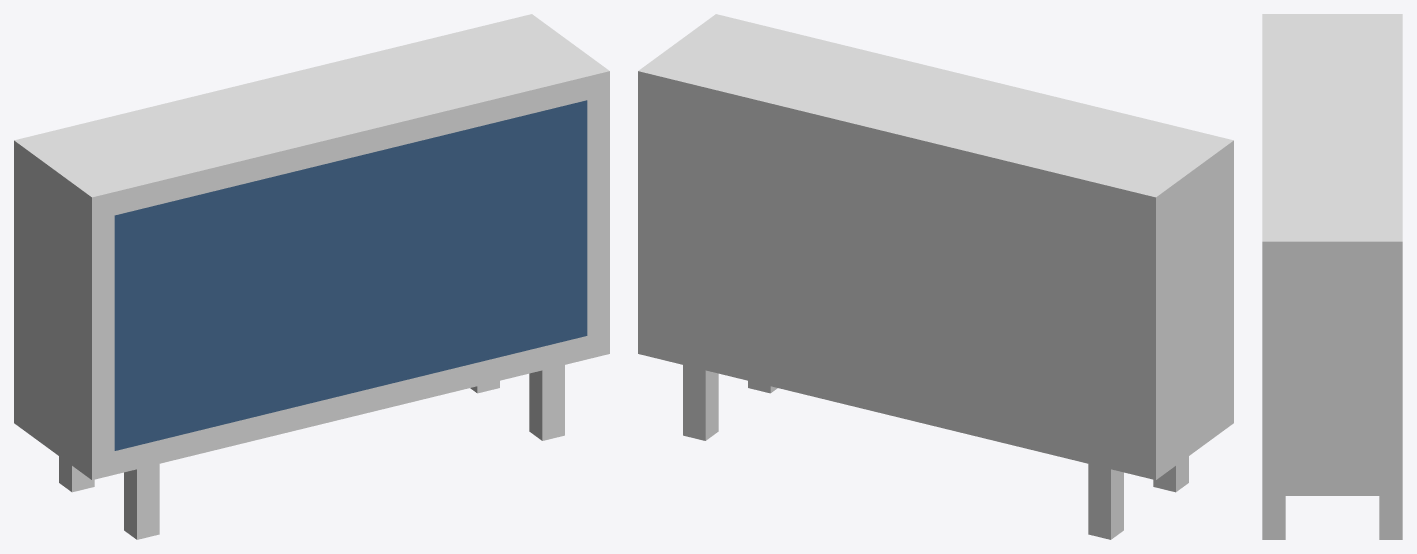
Rendered from 4er-tisch-verl-32.obj.
3 renders of one model, left to right at view 1: azimuth 30°, elevation 25°; view 2: azimuth 150°, elevation 25°; view 3: azimuth 270°, elevation 25°, orthographic. The views are drawn at different scales.
Bounding box in the file's own units: 2.3 × 1.5 × 0.6.
1 material, 1 textured.
